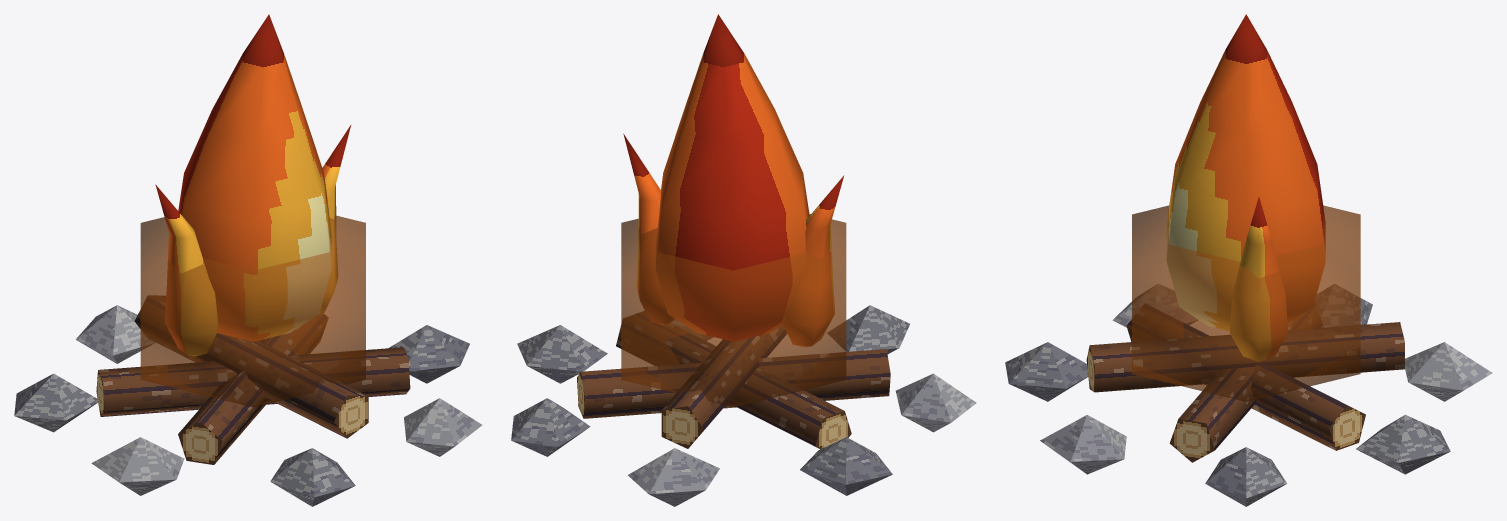
File: outdoors-campfire.glb
3 renders of one model, left to right at view 1: azimuth 30°, elevation 25°; view 2: azimuth 150°, elevation 25°; view 3: azimuth 270°, elevation 25°, orthographic.
Visible parts, largest first — view 1: outdoors.campfire; view 2: outdoors.campfire; view 3: outdoors.campfire.
Boxes of the visible parts, x1,y1,x2,y2 form: outdoors.campfire: (14, 14, 482, 506); outdoors.campfire: (511, 14, 976, 506); outdoors.campfire: (1005, 14, 1492, 506).
Size of the model in its own units: 1.51 by 1.41 by 1.51.
7 materials, 6 textured.
